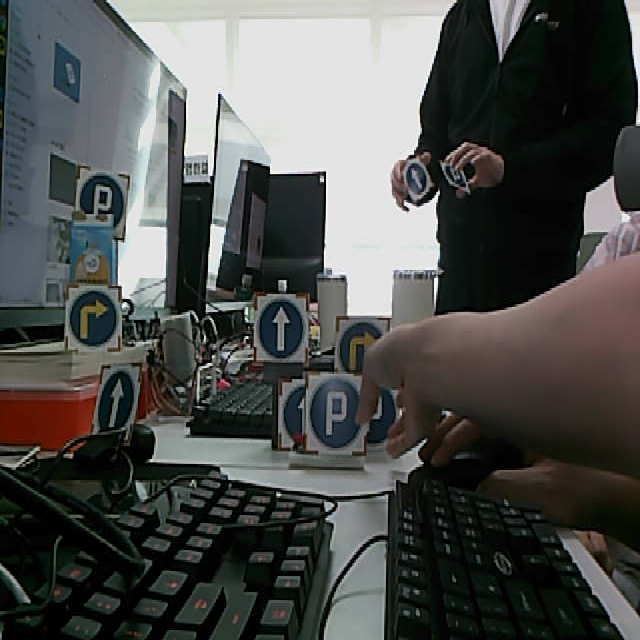parking: (304, 373, 367, 455), (74, 163, 130, 242), (370, 384, 400, 453), (443, 161, 468, 193)
right: (63, 282, 121, 351), (335, 316, 392, 376)
straight: (251, 290, 307, 365), (92, 363, 140, 442), (273, 376, 304, 451)
